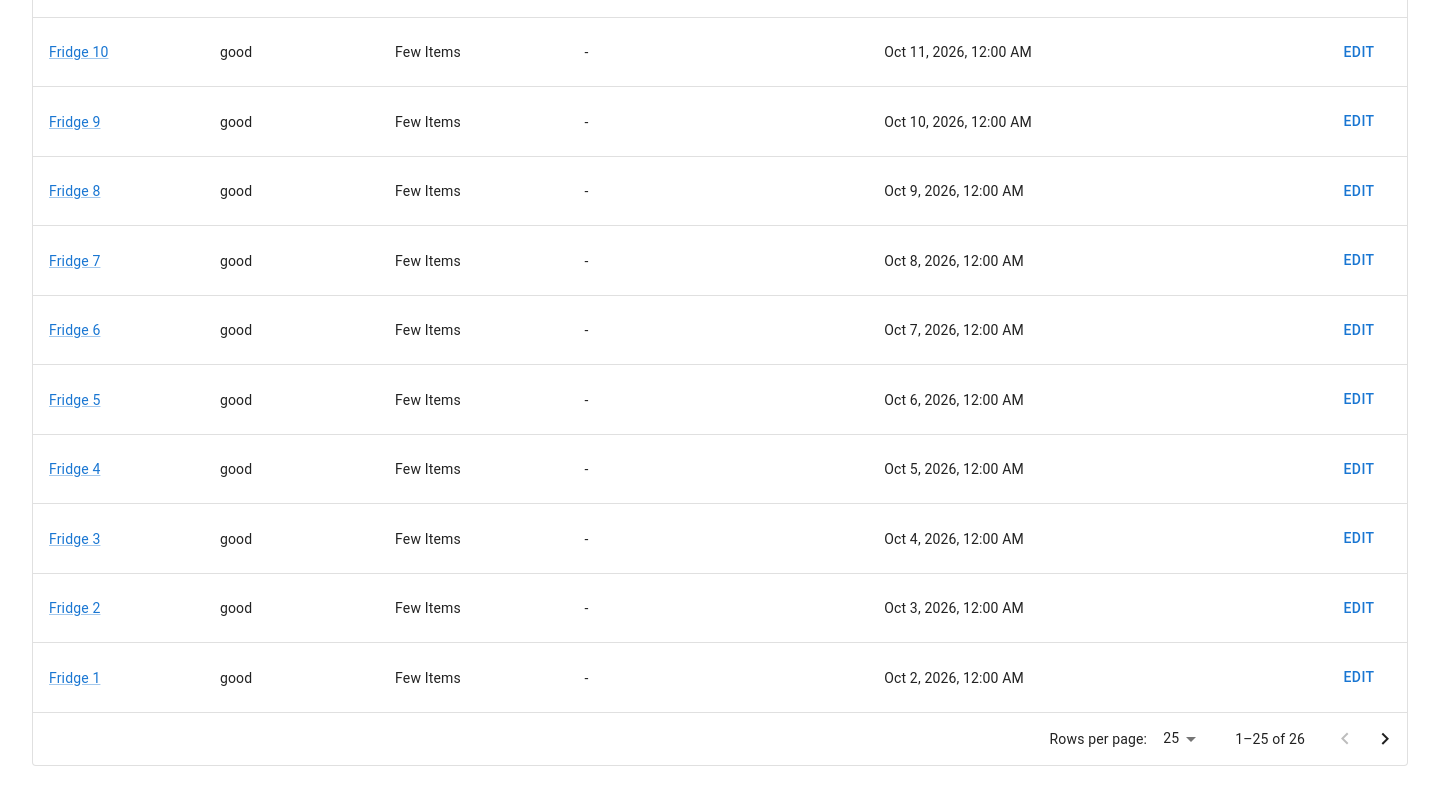
AdminFridgesPage › sorts the entire result before pagination and resets the page when toggled
(page scrolled)
Expected: the link "Fridge 0" is not shown
Click the button named "Go to next page". click: (1385, 739)
box: [1365,719,1405,759]
(page scrolled)
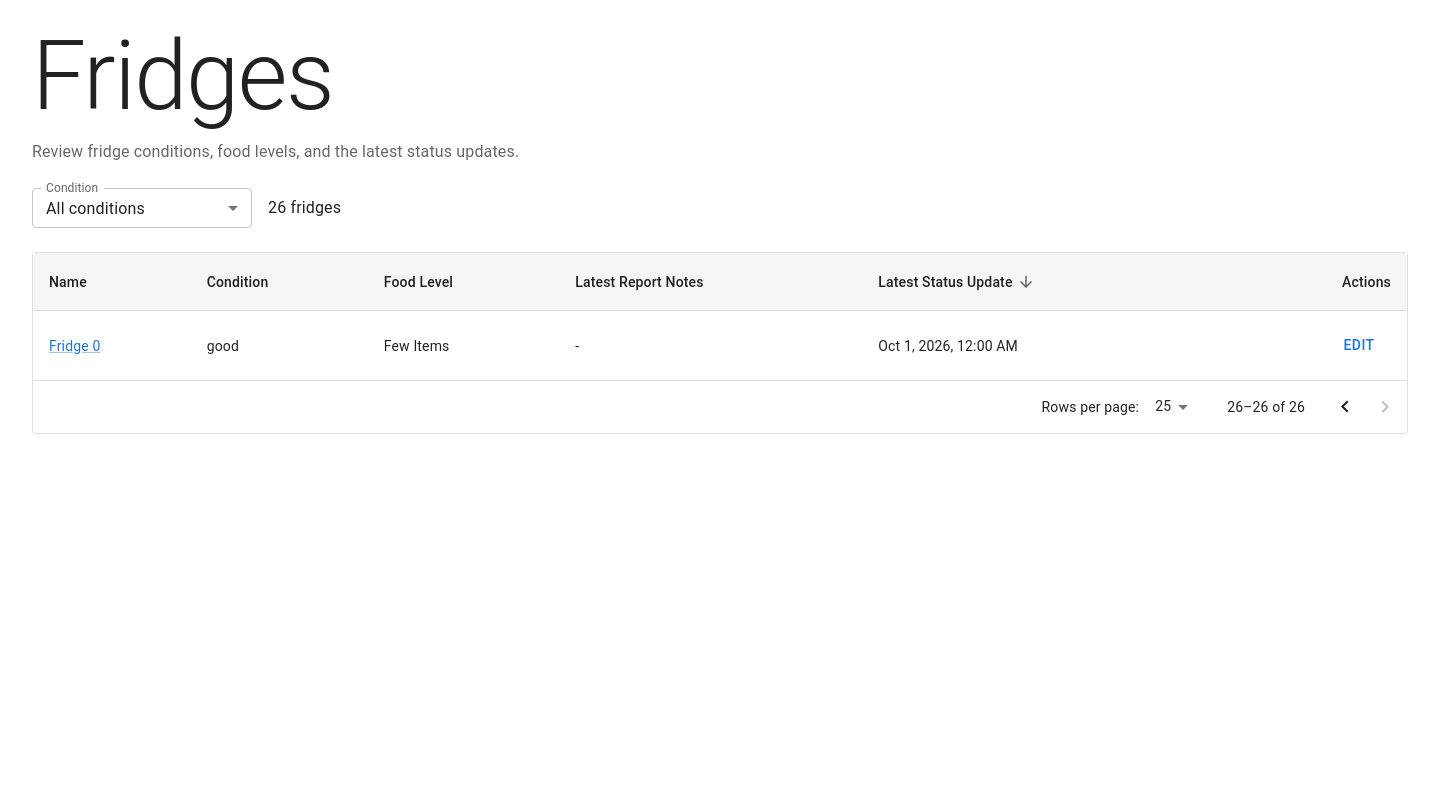
Result: the number of links is 1 at [49,338,100,354]
Click the button "Latest Status Update". click: (958, 282)
box: [878,270,1039,294]
(page scrolled)
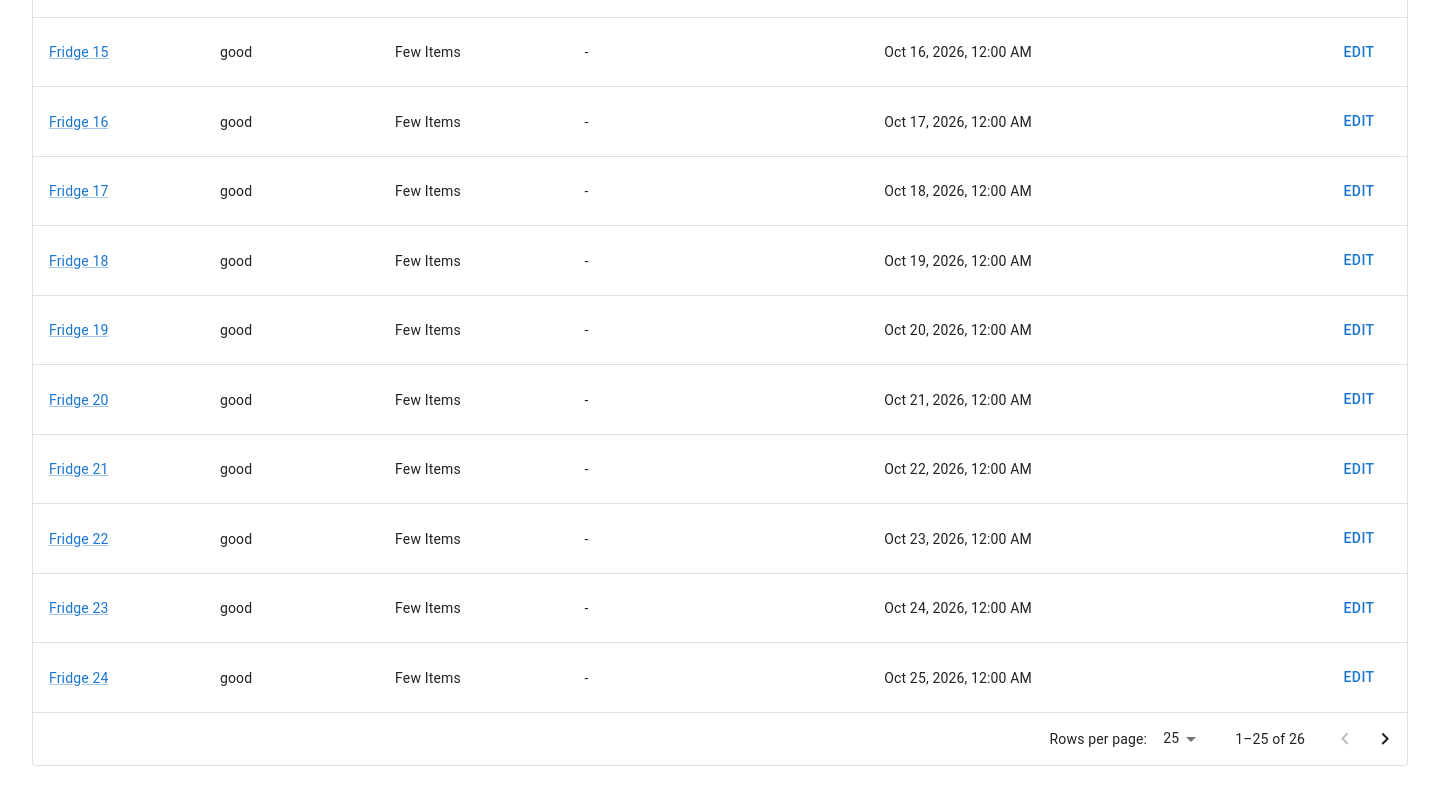
Result: the text "1–25 of 26" is shown at [1235,729,1305,749]
